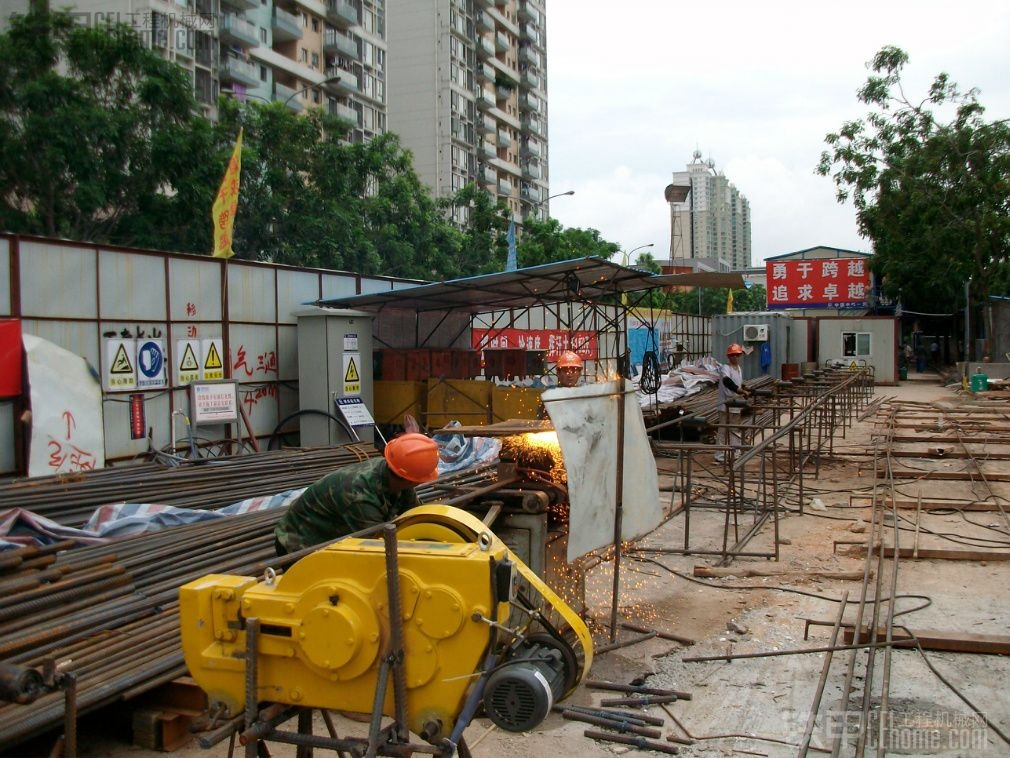red: (379, 436, 440, 493), (556, 349, 583, 385), (725, 342, 742, 366)
